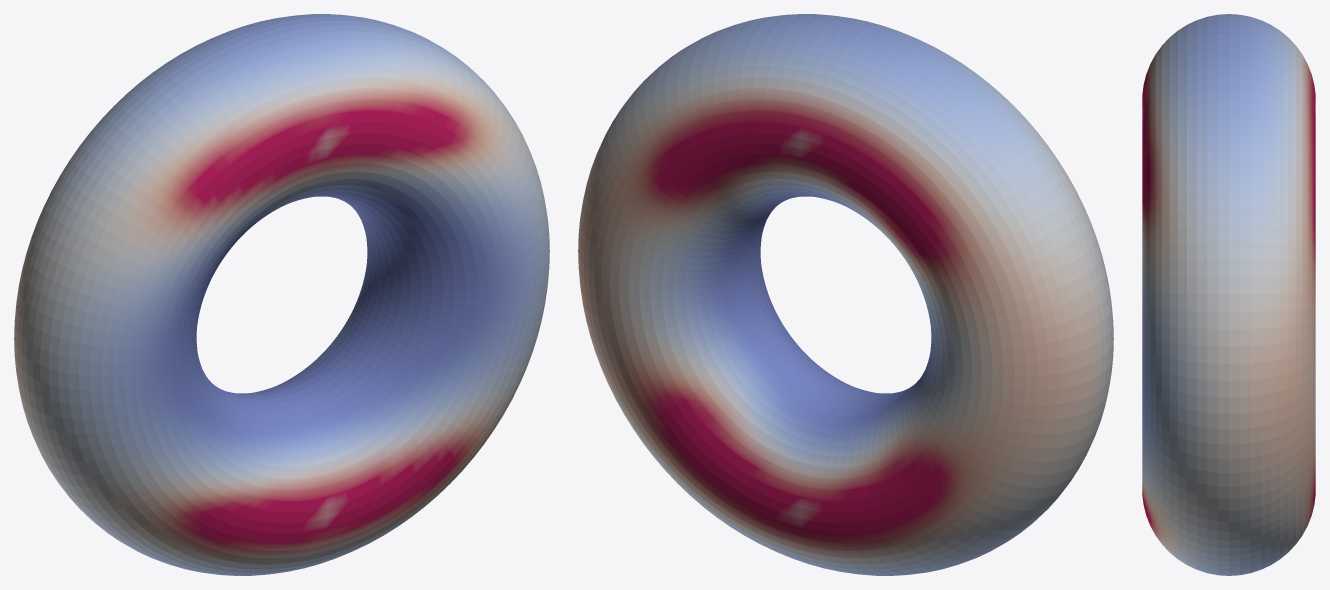
3 renders of one model, left to right at view 1: azimuth 30°, elevation 25°; view 2: azimuth 150°, elevation 25°; view 3: azimuth 270°, elevation 25°, orthographic. The views are drawn at different scales.
Parts seen in each view (by area): view 1: world; view 2: world; view 3: world.
Boxes of the visible parts, x1=… form: world: x1=14, y1=14, x2=549, y2=575; world: x1=578, y1=14, x2=1113, y2=575; world: x1=1142, y1=14, x2=1315, y2=575.
Bounding box in the file's own units: 20.27 × 20.27 × 6.25.
